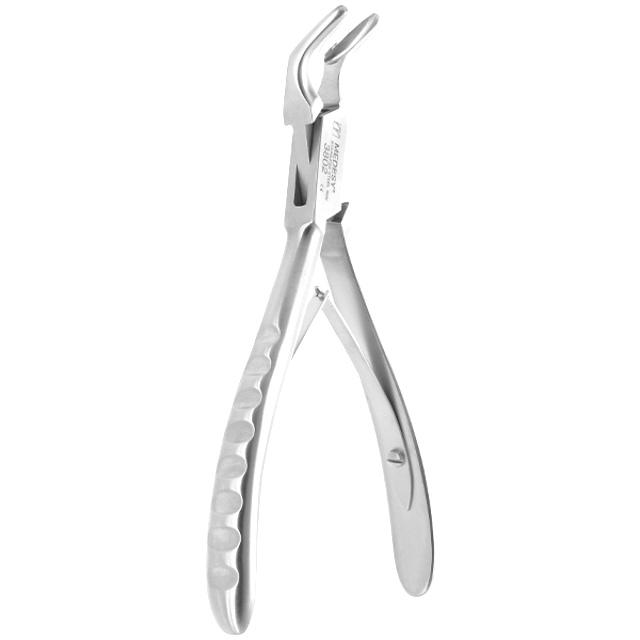gubia: (205, 3, 437, 639)
